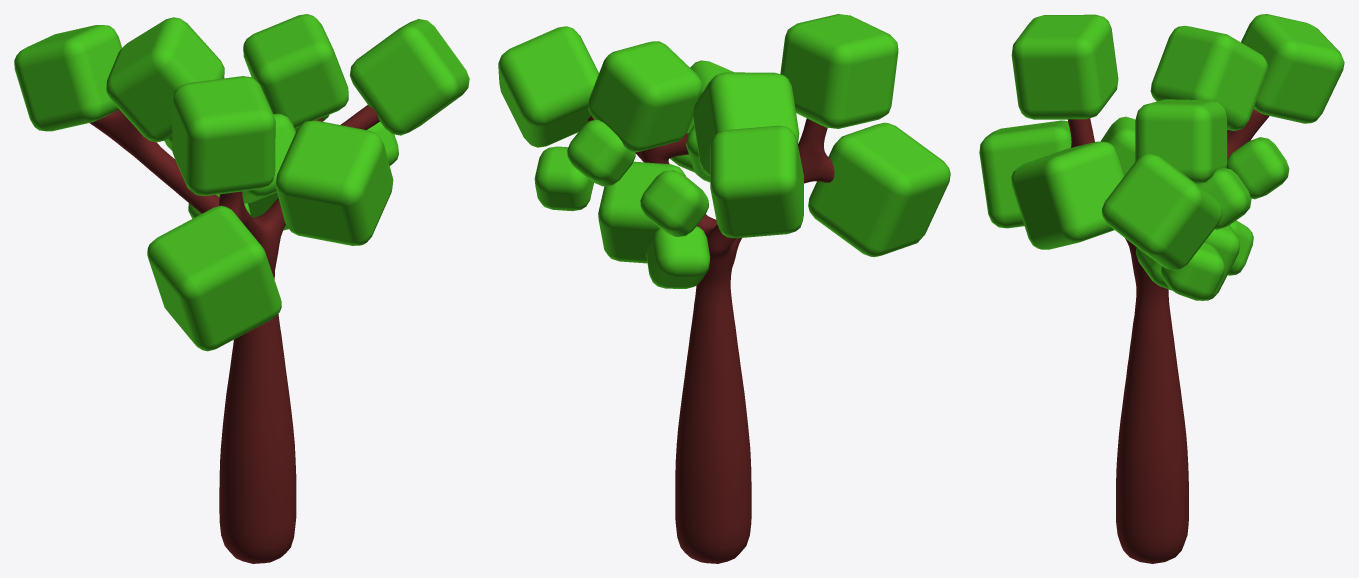
Rendered from low-poly-tree.glb.
3 renders of one model, left to right at view 1: azimuth 30°, elevation 25°; view 2: azimuth 150°, elevation 25°; view 3: azimuth 270°, elevation 25°, orthographic. The views are drawn at different scales.
Visible parts, largest first — view 1: Vert, Cube.004, Cube.025, Cube.005, Cube.003, Cube, Cube.002, Cube.006, Cube.007, Cube.009; view 2: Vert, Cube.004, Cube.005, Cube, Cube.006, Cube.003, Cube.002, Cube.010, Cube.008, Cube.011, Cube.012, Cube.009 (+1 smaller); view 3: Vert, Cube.005, Cube.025, Cube.003, Cube.002, Cube, Cube.006, Cube.004, Cube.011, Cube.009, Cube.012, Cube.010 (+2 smaller).
Part boxes in pixels (x1,y1,x2,y2): Vert: (90,105,379,563); Cube.004: (147,205,281,351); Cube.025: (275,120,393,245); Cube.005: (172,76,275,195); Cube.003: (349,19,469,135); Cube: (14,25,121,131); Cube.002: (106,17,224,142); Cube.006: (243,14,348,128); Cube.007: (242,113,295,203); Cube.009: (367,122,398,165); Vert: (587,116,834,563); Cube.004: (808,122,950,257); Cube.005: (780,14,898,128); Cube: (710,125,803,238); Cube.006: (588,41,702,152); Cube.003: (498,26,598,147); Cube.002: (693,72,799,176); Cube.010: (598,161,685,263); Cube.008: (646,226,710,288); Cube.011: (640,170,708,236); Cube.012: (567,120,635,186); Cube.009: (534,146,593,211); Vert: (1068,109,1269,563); Cube.005: (1011,14,1118,119); Cube.025: (1011,141,1124,249); Cube.003: (1102,154,1222,270); Cube.002: (1150,25,1267,130); Cube: (1241,14,1344,123); Cube.006: (1135,99,1227,184); Cube.004: (979,120,1071,228); Cube.011: (1226,137,1289,199); Cube.009: (1161,242,1224,300); Cube.012: (1197,168,1251,229); Cube.010: (1136,225,1240,300).
Bounding box in the file's own units: 1.7 × 2.29 × 1.51.
